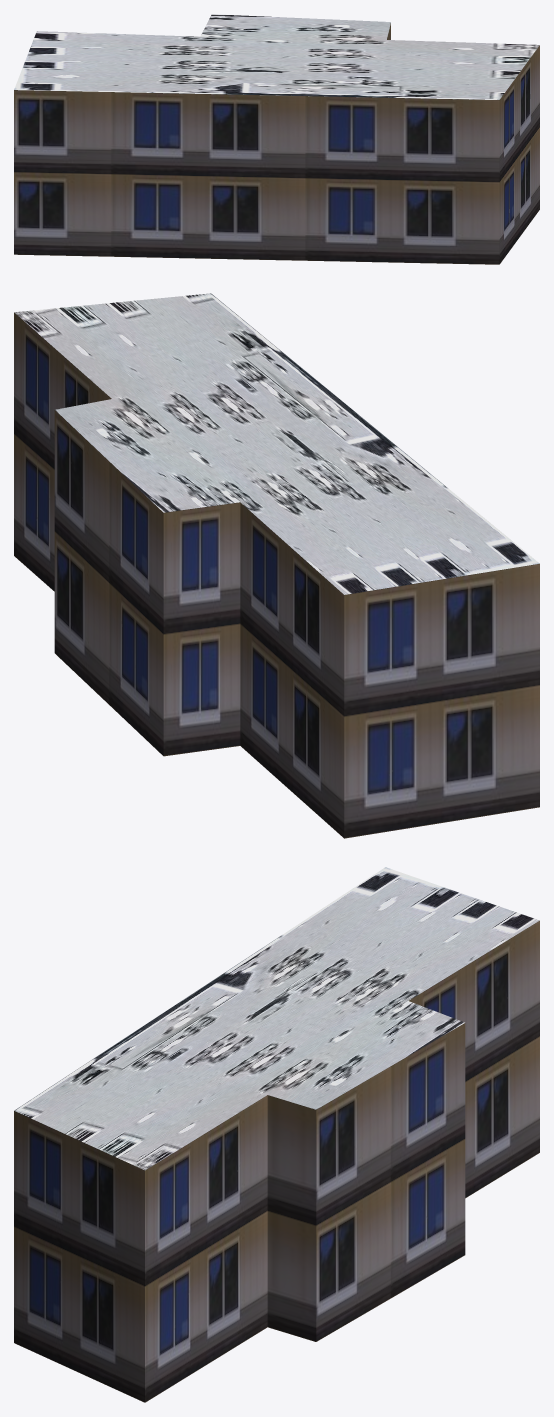
Rendered from ResTex__3353.fbx.
3 views of the same model, one above another, from view 1: azimuth 30°, elevation 25°; view 2: azimuth 150°, elevation 25°; view 3: azimuth 270°, elevation 25° (orthographic). The views are drawn at different scales.
Visible parts, largest first — view 1: CityEngineMaterial_5_m, CityEngineMaterial_m; view 2: CityEngineMaterial_5_m, CityEngineMaterial_m; view 3: CityEngineMaterial_5_m, CityEngineMaterial_m.
Part boxes in pixels (x1,y1,x2,y2): CityEngineMaterial_5_m: (14, 23, 539, 264); CityEngineMaterial_m: (14, 14, 539, 99); CityEngineMaterial_5_m: (14, 312, 539, 838); CityEngineMaterial_m: (14, 293, 539, 594); CityEngineMaterial_5_m: (14, 920, 539, 1402); CityEngineMaterial_m: (14, 867, 539, 1170).
Size of the model in its own units: 16.81 by 6 by 12.31.
Materials: 2 (2 with a texture image).
